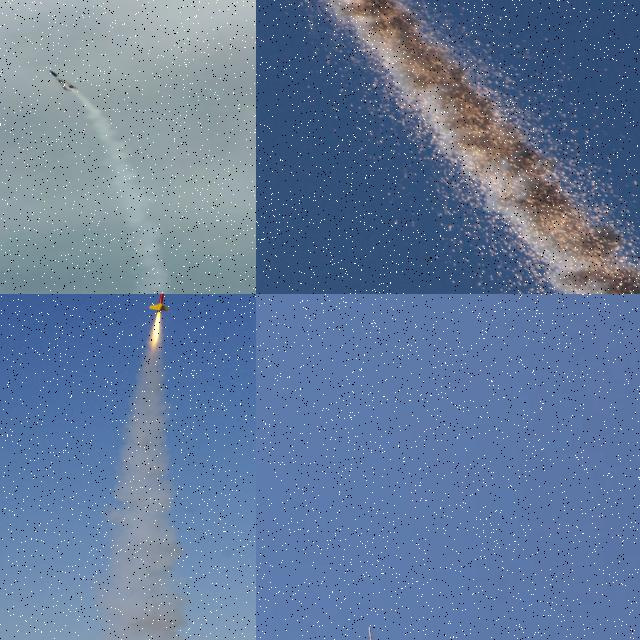Rocket: (47, 70, 79, 92), (148, 294, 178, 313), (368, 624, 374, 640)
